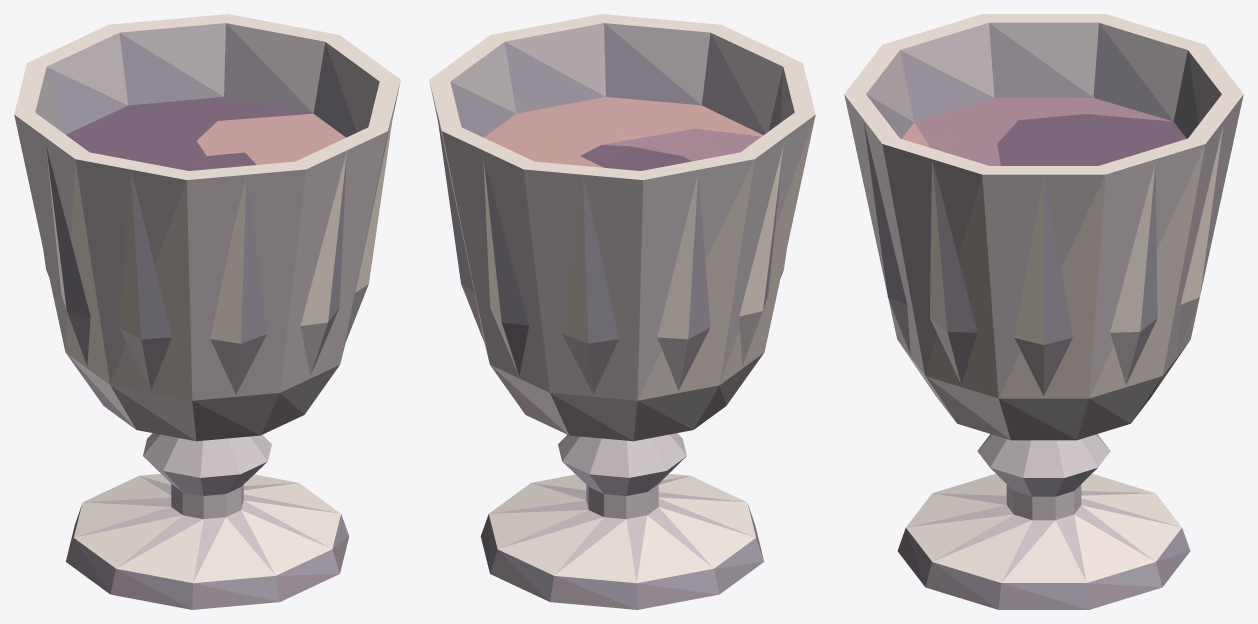
The model's file is glass_juice.fbx.
3 renders of one model, left to right at view 1: azimuth 30°, elevation 25°; view 2: azimuth 150°, elevation 25°; view 3: azimuth 270°, elevation 25°, orthographic.
Parts seen in each view (by area): view 1: pCylinder6; view 2: pCylinder6; view 3: pCylinder6.
Boxes of the visible parts, x1,y1,x2,y2 form: pCylinder6: [14, 14, 400, 609]; pCylinder6: [429, 14, 815, 609]; pCylinder6: [844, 14, 1243, 609].
Bounding box in the file's own units: 8.54 × 11.33 × 8.98.
